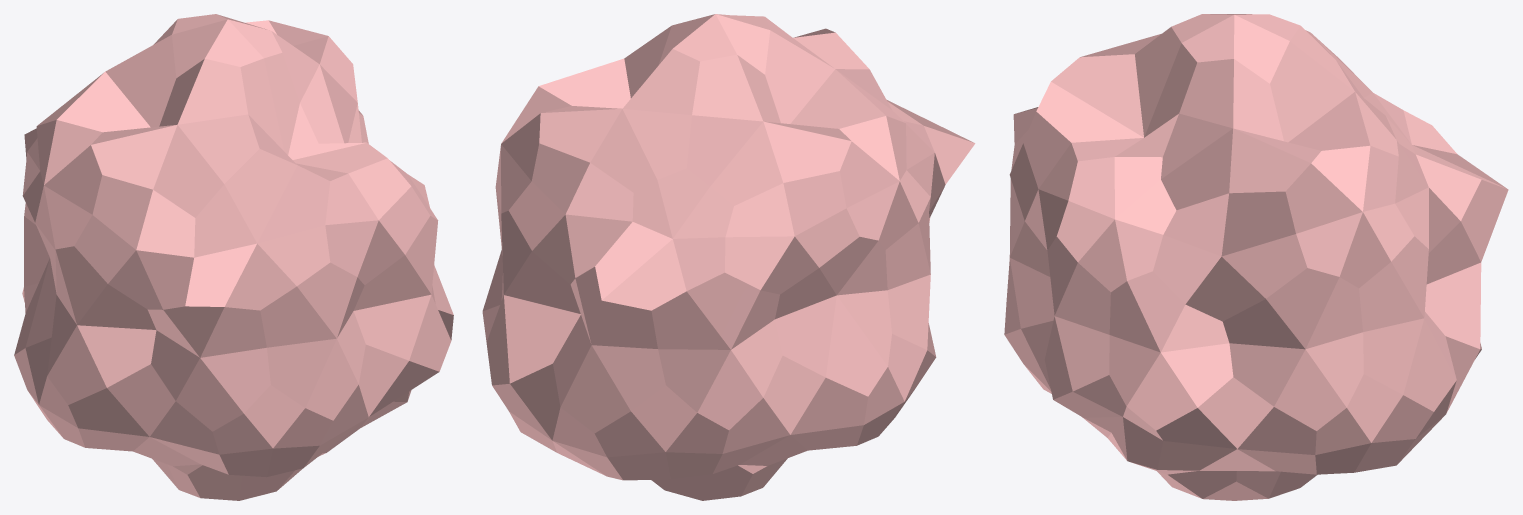
Rendered from land2.gltf.
3 views of the same model, side by side, from view 1: azimuth 30°, elevation 25°; view 2: azimuth 150°, elevation 25°; view 3: azimuth 270°, elevation 25° (orthographic). The views are drawn at different scales.
Parts seen in each view (by area): view 1: Icosphere.001; view 2: Icosphere.001; view 3: Icosphere.001.
Boxes of the visible parts, x1,y1,x2,y2 form: Icosphere.001: [14, 14, 453, 500]; Icosphere.001: [482, 14, 975, 500]; Icosphere.001: [1004, 14, 1508, 500].
Size of the model in its own units: 2.72 by 3.24 by 3.05.
